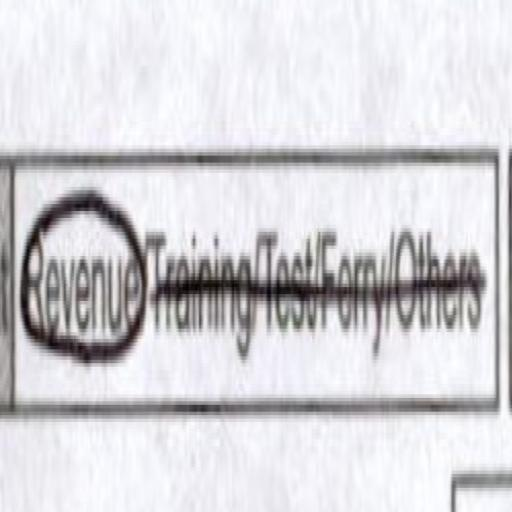check: (16, 120, 144, 412)
